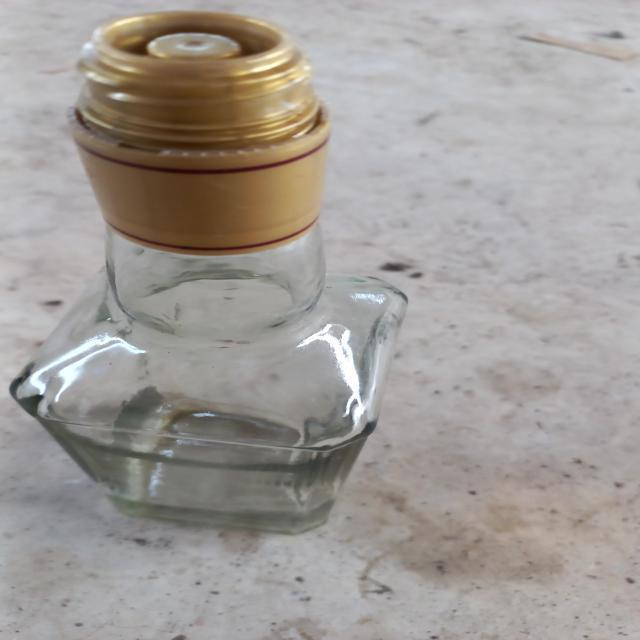Glass: (10, 11, 410, 535)
